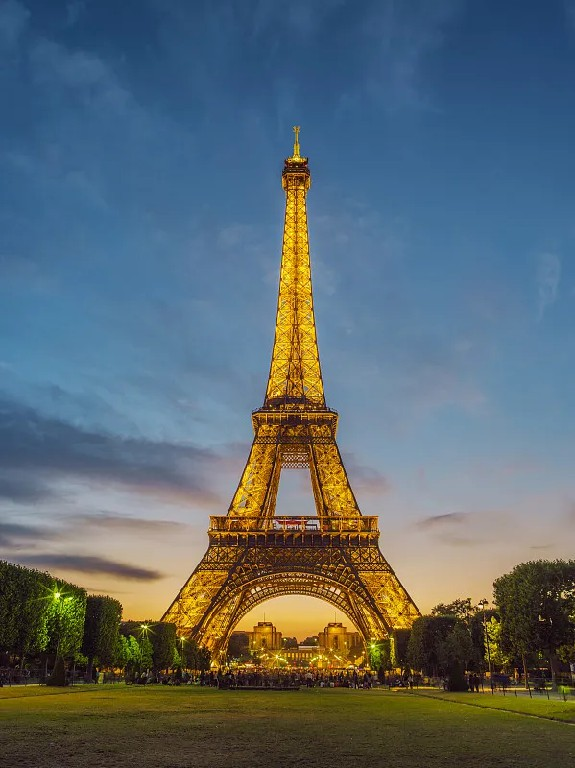Eiffel: (160, 124, 421, 667)
